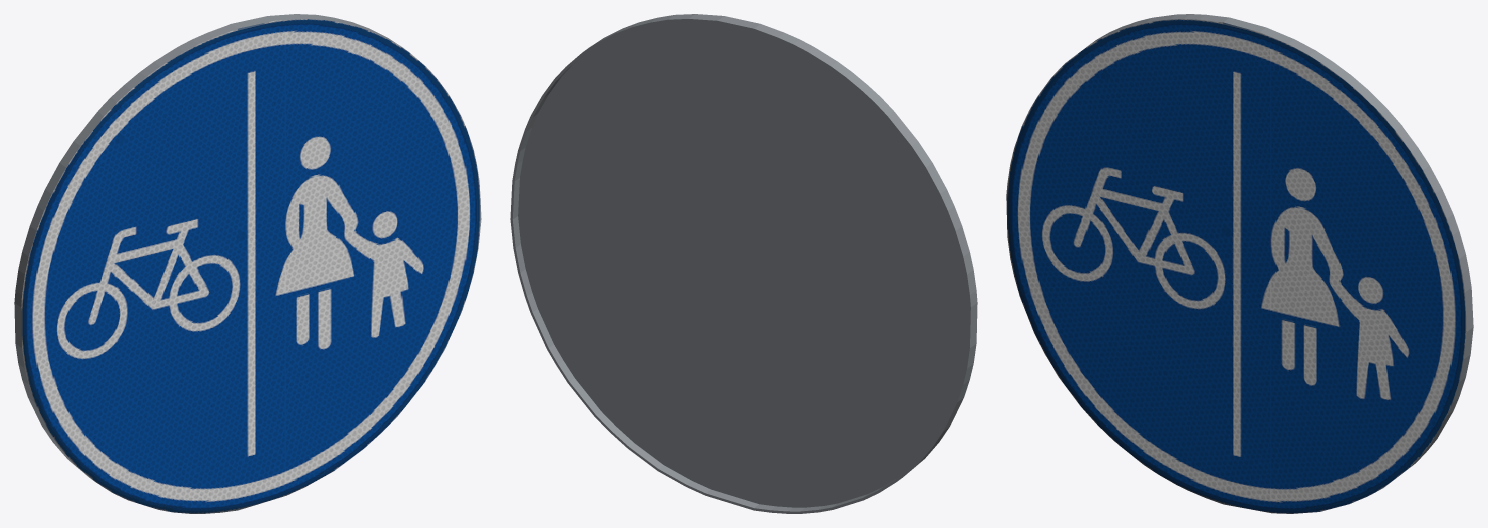
3 renders of one model, left to right at view 1: azimuth 30°, elevation 25°; view 2: azimuth 150°, elevation 25°; view 3: azimuth 330°, elevation 25°, orthographic.
Parts seen in each view (by area): view 1: cat_6e0752c465a13c4d; view 2: cat_6e0752c465a13c4d; view 3: cat_6e0752c465a13c4d.
Part boxes in pixels (x1,y1,x2,y2): cat_6e0752c465a13c4d: (14,14,481,513); cat_6e0752c465a13c4d: (510,14,977,513); cat_6e0752c465a13c4d: (1006,14,1473,513).
Bounding box in the file's own units: 0.6 × 0.015 × 0.6.
Materials: 2 (1 with a texture image).
